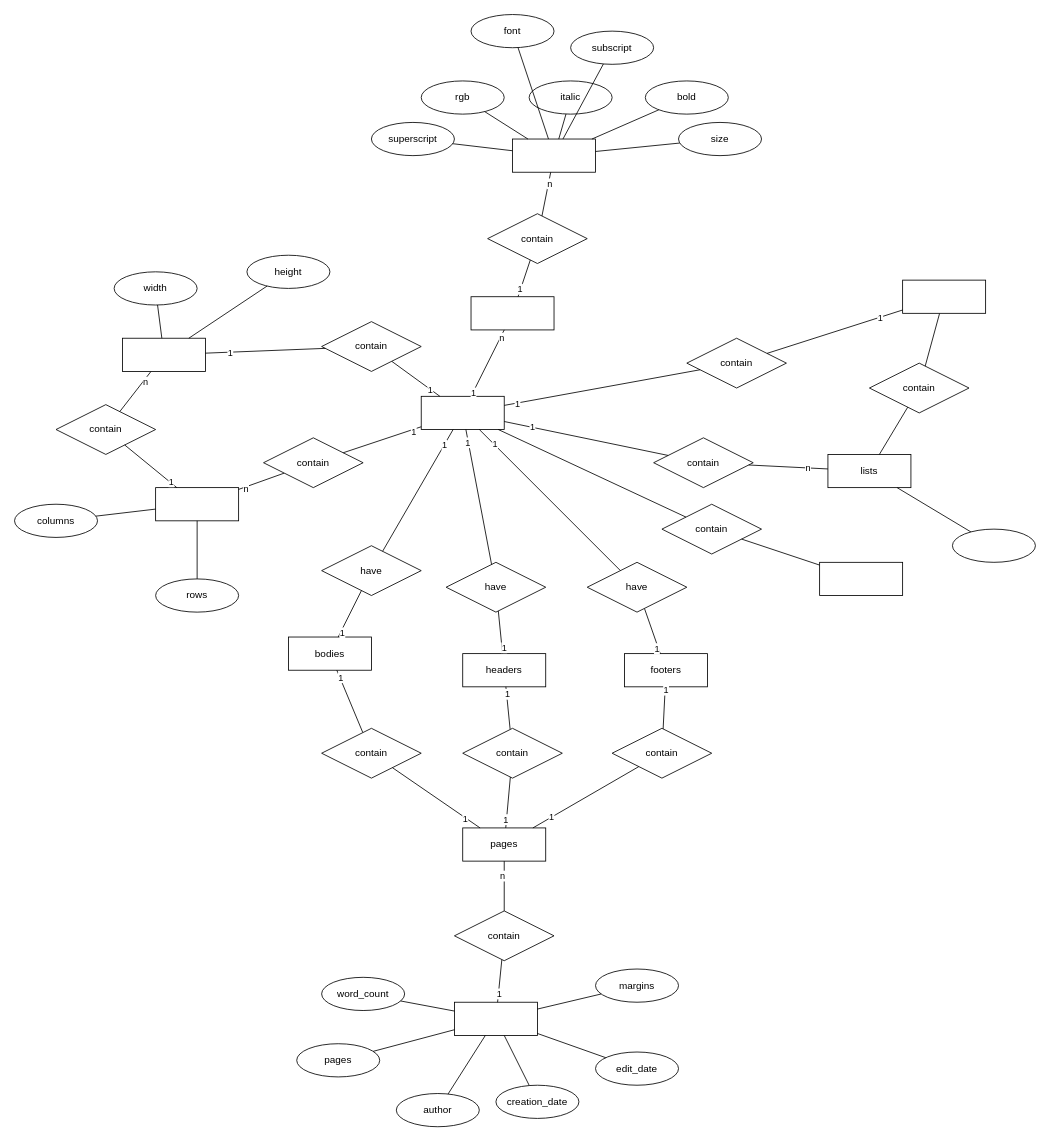
The diagram is 1050 pixels wide and 1141 high, and some of its shapes have lost their labels. Each missing label, with the box of its shape:
bulletpoints: (902, 279, 986, 313)
cells: (122, 337, 205, 371)
characters: (512, 138, 596, 172)
content_container: (420, 395, 504, 430)
documents: (454, 1001, 537, 1035)
images: (819, 561, 903, 596)
numbered: (952, 528, 1035, 562)
tables: (155, 487, 239, 521)
text: (470, 296, 554, 330)
